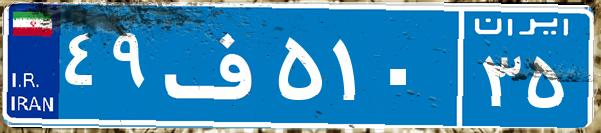0: (385, 28, 445, 110)
1: (330, 28, 385, 110)
3: (475, 38, 525, 113)
4: (57, 26, 110, 107)
5: (273, 28, 330, 110), (525, 38, 570, 115)
9: (110, 28, 158, 105)
ف: (158, 15, 273, 115)
